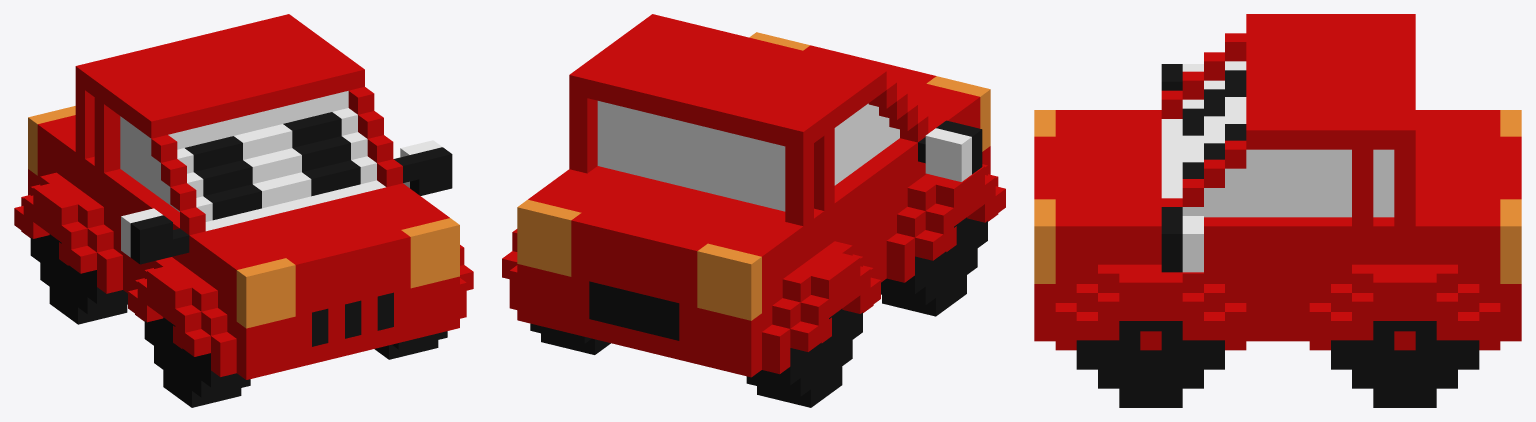
File: Josh.obj
3 views of the same model, side by side, from view 1: azimuth 30°, elevation 25°; view 2: azimuth 150°, elevation 25°; view 3: azimuth 270°, elevation 25° (orthographic). The views are drawn at different scales.
Parts seen in each view (by area): view 1: Josh; view 2: Josh; view 3: Josh.
Boxes of the visible parts, x1,y1,x2,y2 form: Josh: [14, 14, 473, 407]; Josh: [502, 14, 1005, 407]; Josh: [1034, 14, 1521, 407].
Size of the model in its own units: 19 by 14 by 23.
Materials: 1 (1 with a texture image).
